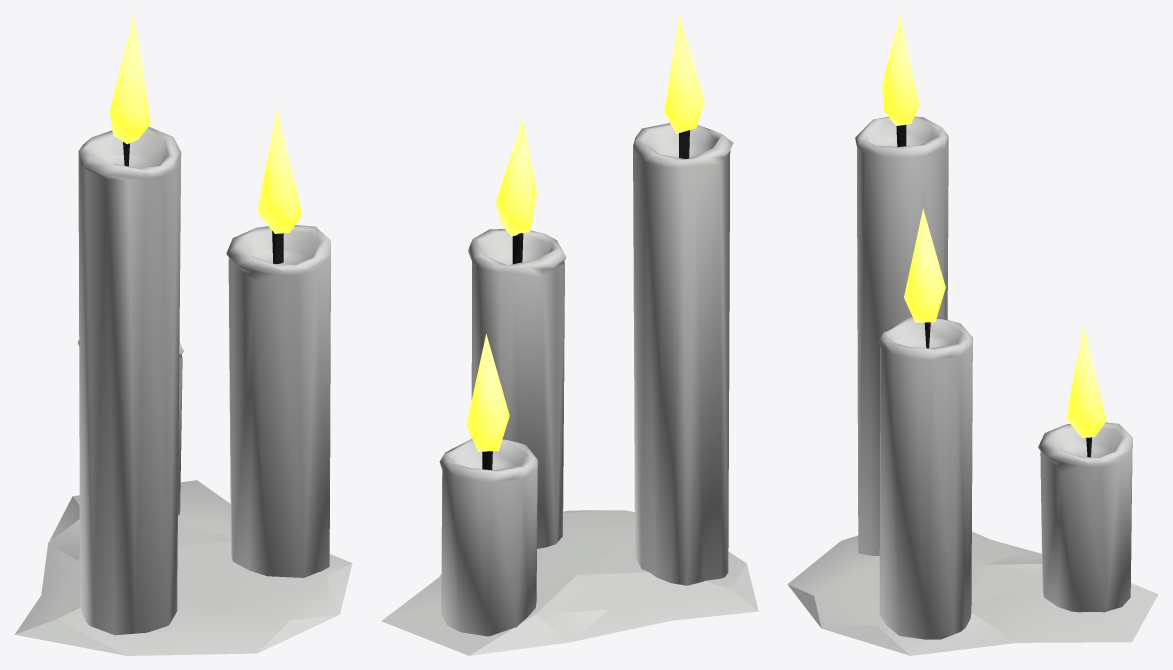
3 renders of one model, left to right at view 1: azimuth 30°, elevation 25°; view 2: azimuth 150°, elevation 25°; view 3: azimuth 270°, elevation 25°, orthographic. The views are drawn at different scales.
Parts seen in each view (by area): view 1: Plane.010; view 2: Plane.010; view 3: Plane.010.
Part boxes in pixels (x1=…): Plane.010: x1=14, y1=14, x2=352, y2=655; Plane.010: x1=381, y1=14, x2=758, y2=655; Plane.010: x1=787, y1=14, x2=1158, y2=655.
Size of the model in its own units: 0.0934 by 0.166 by 0.1026.
